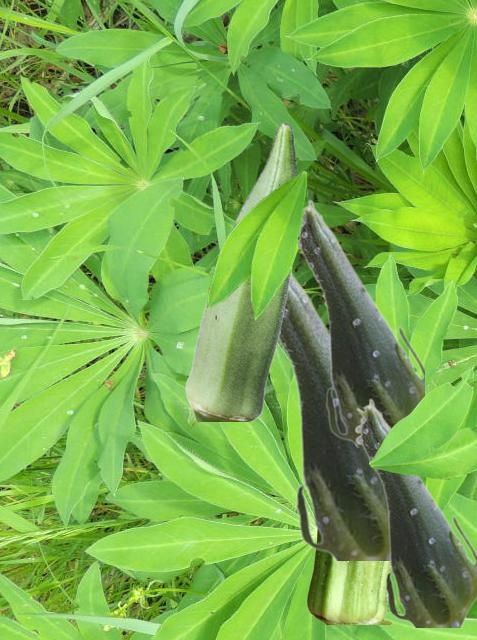okra: (185, 122, 298, 420), (279, 271, 388, 559), (299, 199, 423, 446), (354, 398, 475, 626), (307, 530, 392, 623)
